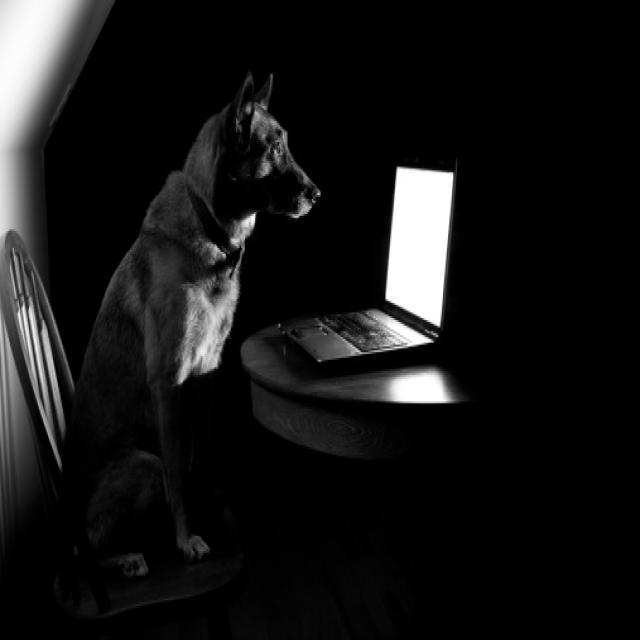Table: (240, 306, 596, 520)
chair: (3, 190, 86, 497)
dog: (39, 56, 329, 605)
